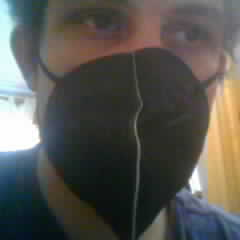with_mask: (40, 1, 219, 225)
